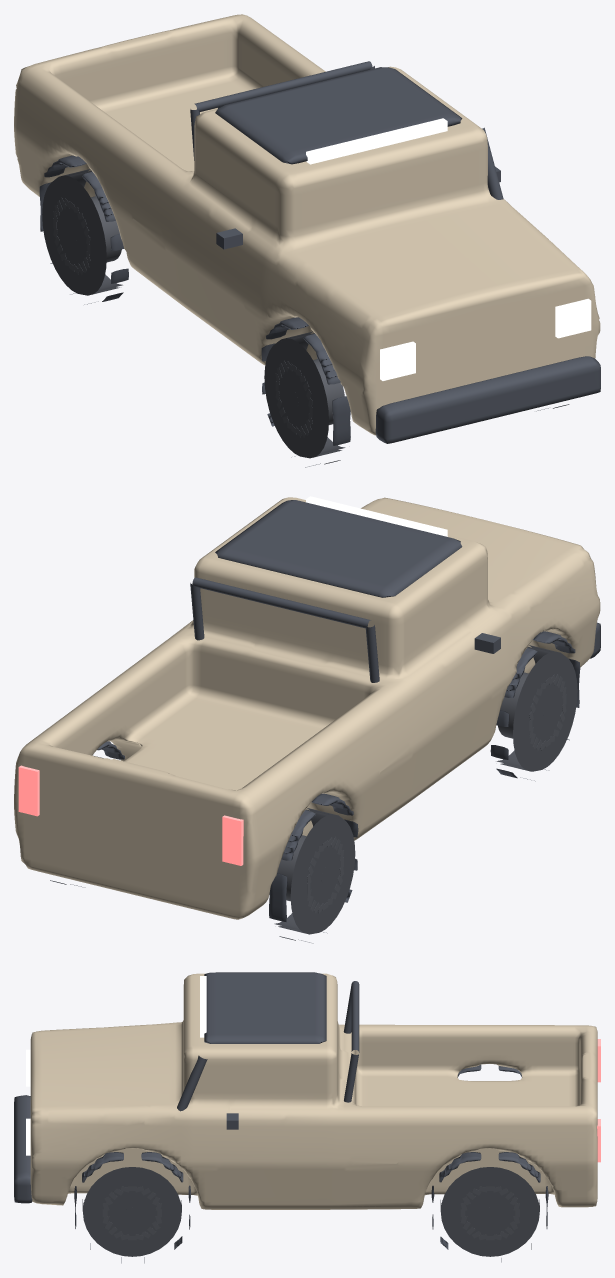
File: badlands.glb
3 views of the same model, one above another, from view 1: azimuth 30°, elevation 25°; view 2: azimuth 150°, elevation 25°; view 3: azimuth 270°, elevation 25° (orthographic). The views are drawn at different scales.
Parts seen in each view (by area): view 1: Bodywork, CarbonAero (×2), TireRubber, HeadlightLED, ForgedRim; view 2: Bodywork, CarbonAero (×2), TireRubber, ForgedRim, TaillightLED, HeadlightLED; view 3: Bodywork, CarbonAero (×2), TireRubber, ForgedRim, HeadlightLED.
Part boxes in pixels (x1=…): Bodywork: x1=14, y1=14, x2=600, y2=435; CarbonAero (×2): x1=39, y1=61, x2=600, y2=467; TireRubber: x1=42, y1=169, x2=345, y2=458; HeadlightLED: x1=306, y1=118, x2=591, y2=380; ForgedRim: x1=53, y1=196, x2=344, y2=437; Bodywork: x1=14, y1=497, x2=600, y2=919; CarbonAero (×2): x1=50, y1=500, x2=600, y2=943; TireRubber: x1=93, y1=645, x2=577, y2=934; ForgedRim: x1=277, y1=672, x2=566, y2=913; TaillightLED: x1=18, y1=765, x2=243, y2=865; HeadlightLED: x1=306, y1=496, x2=447, y2=536; Bodywork: x1=30, y1=973, x2=597, y2=1209; CarbonAero (×2): x1=14, y1=972, x2=548, y2=1263; TireRubber: x1=82, y1=1167, x2=539, y2=1256; ForgedRim: x1=102, y1=1186, x2=519, y2=1240; HeadlightLED: x1=26, y1=976, x2=206, y2=1155.
Bounding box in the file's own units: 2.34 × 2.13 × 5.33.
